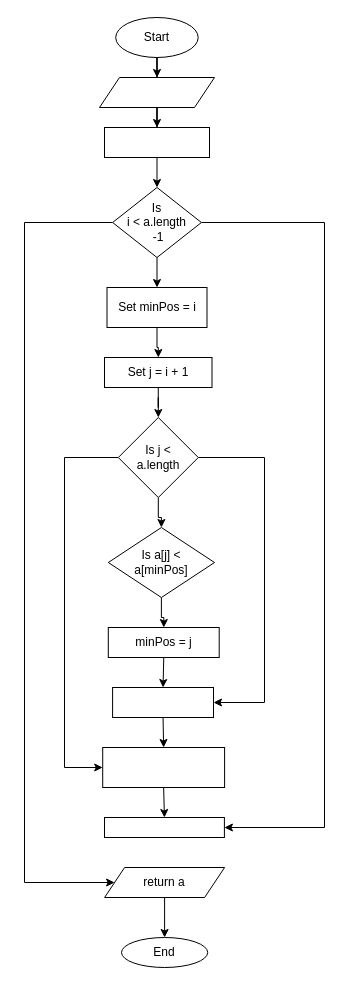
This 350x985 diagram has some shape labels left out. The shapes that lost their labels are listed below. From the top down, each one's centre as x and y in pixels, then its label:
(156,92): array a
(157,142): Set i = 0
(163,702): j++
(163,767): swap (a[minPos], a[i])
(164,827): i++
